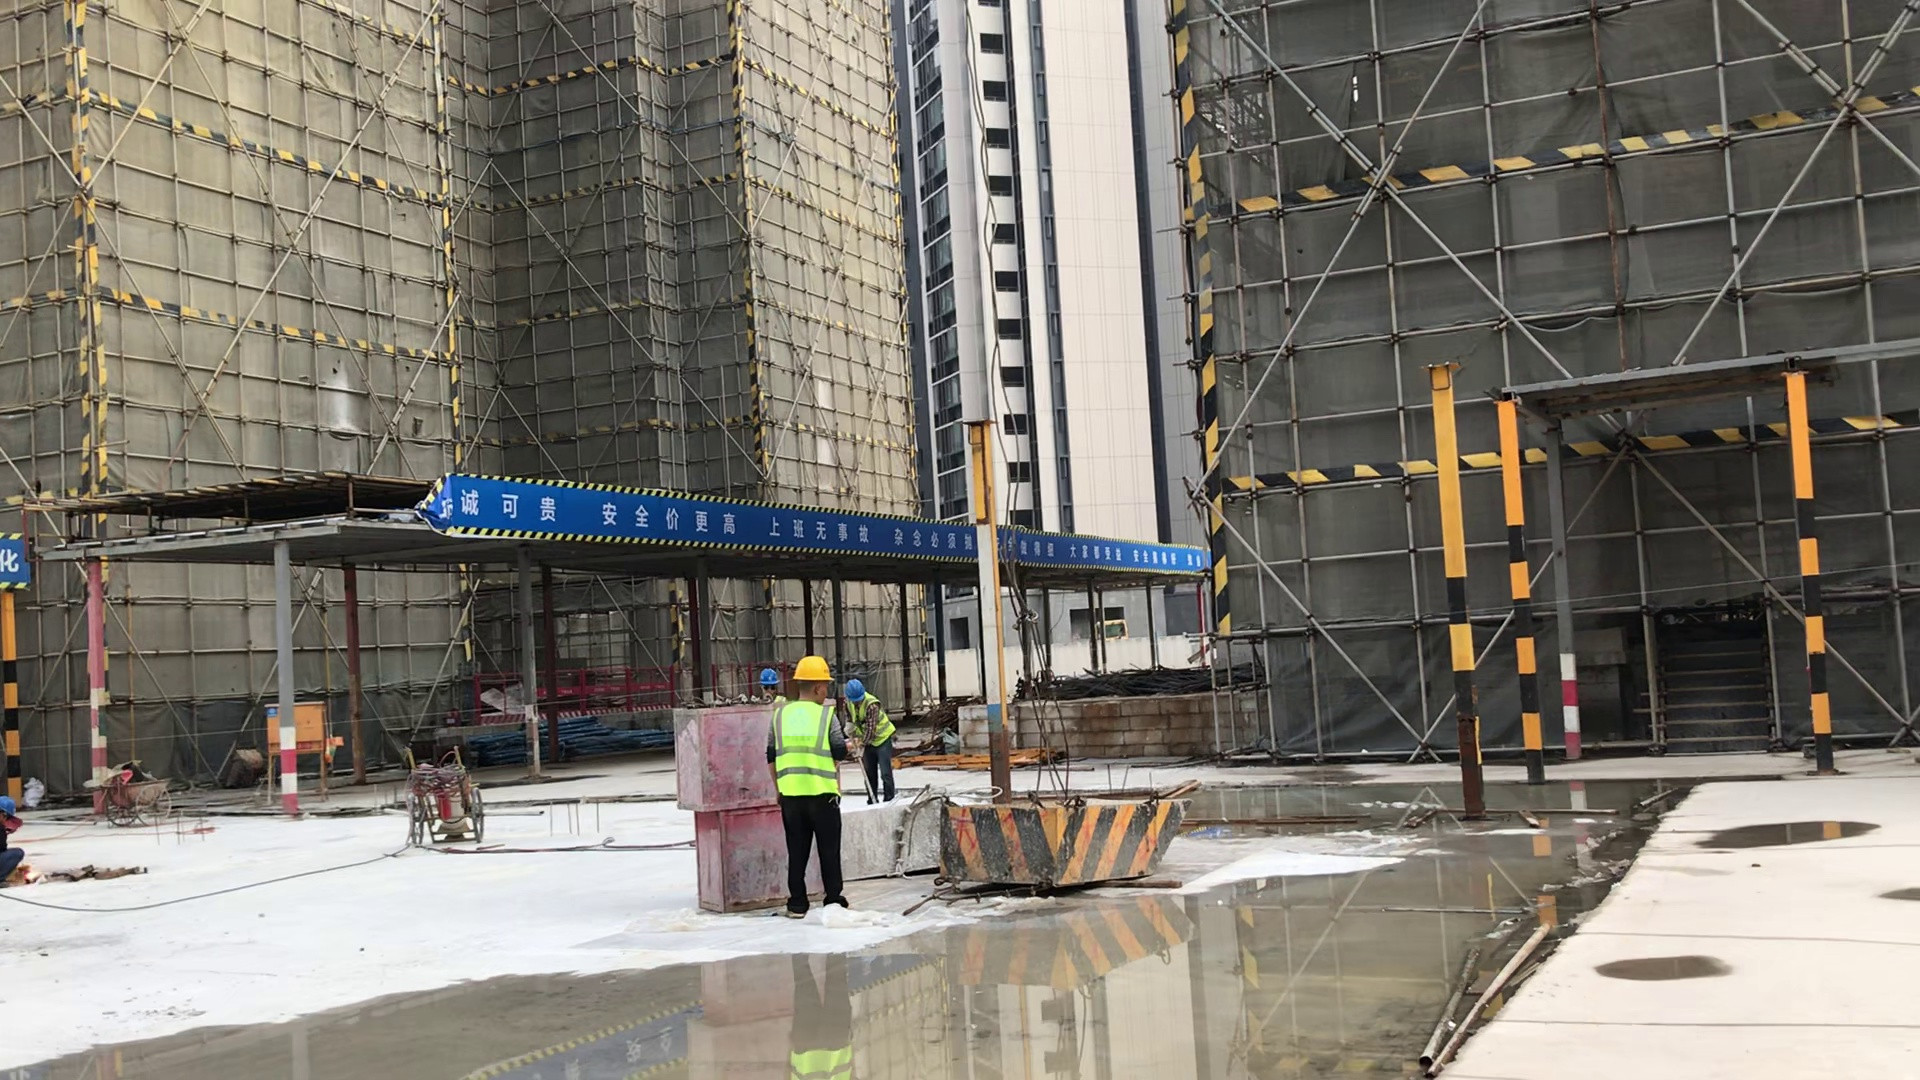ebox: (261, 696, 327, 747)
fence: (478, 661, 782, 726)
handcart: (398, 746, 486, 847)
helmet: (793, 656, 836, 683), (846, 678, 865, 701), (760, 667, 778, 686)
hopper: (938, 795, 1193, 901), (842, 795, 948, 885)
person: (767, 656, 851, 918), (842, 683, 897, 804)
slogan: (438, 476, 1206, 584)
vest: (771, 697, 843, 799), (848, 692, 895, 746)
